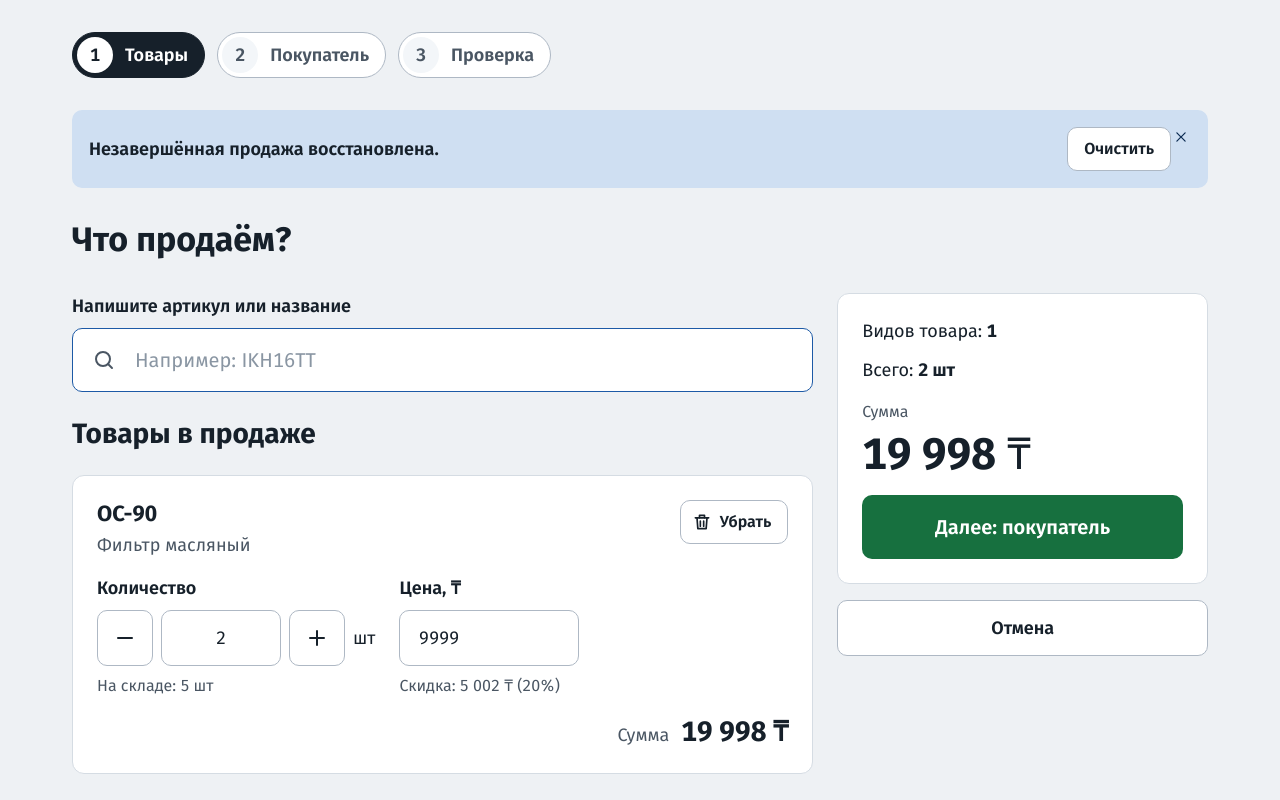
it: SellPage, step 1 › shows the line discount with a floored percent and then the review discount
Expected: the text "Скидка: 5 002 ₸ (20%)" is shown, [400,674,580,698]
Step 1. Click the button "Далее: покупатель" → click(1023, 527), box [862,495,1183,559]
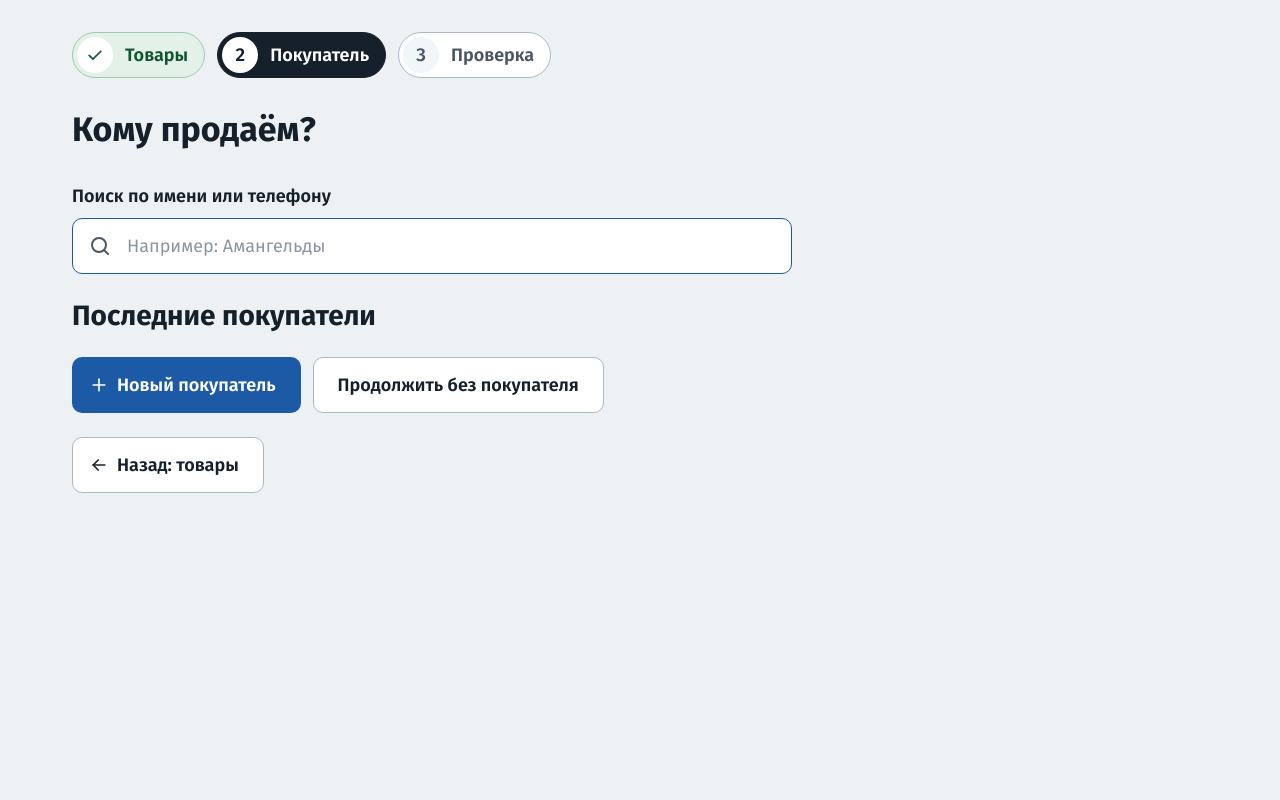
Step 2. Click the button "Продолжить без покупателя" → click(458, 385), box [313,357,604,413]
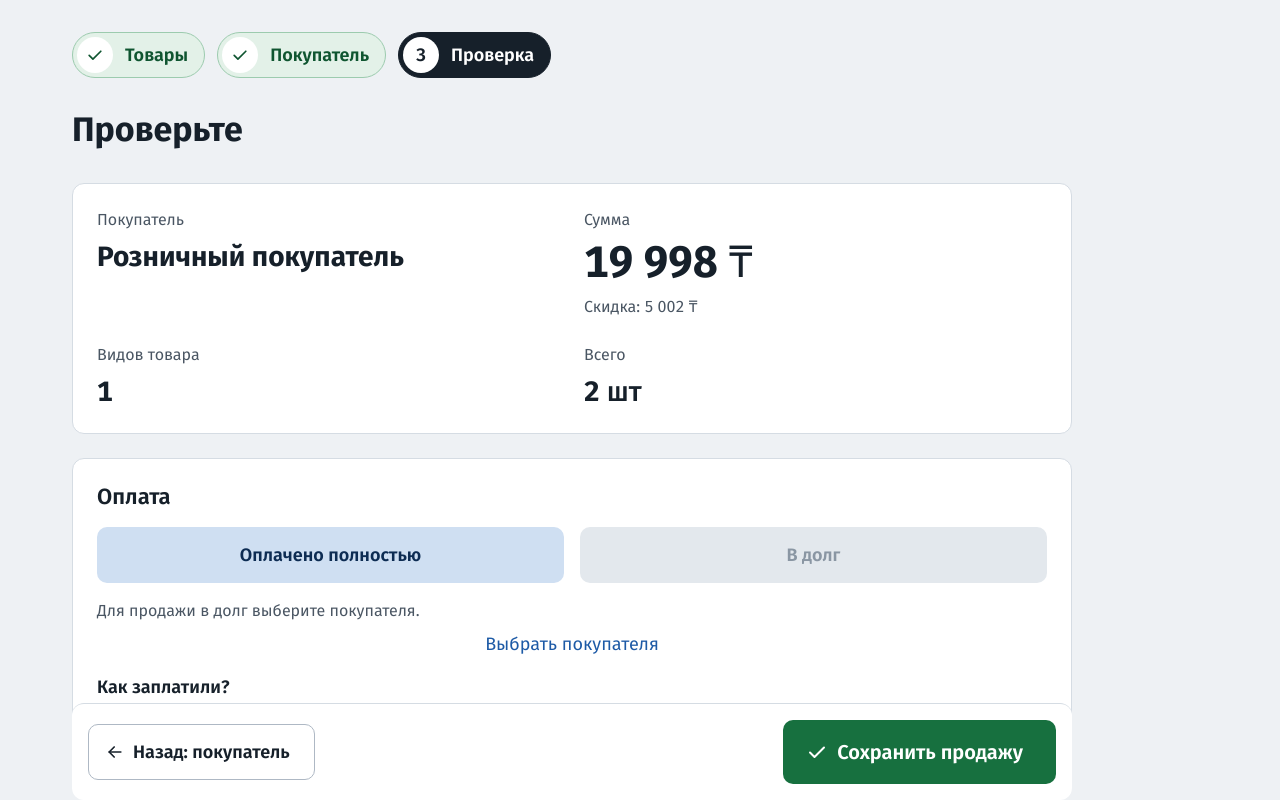
Now the text "Скидка: 5 002 ₸" is shown, box [584,297,698,316]
